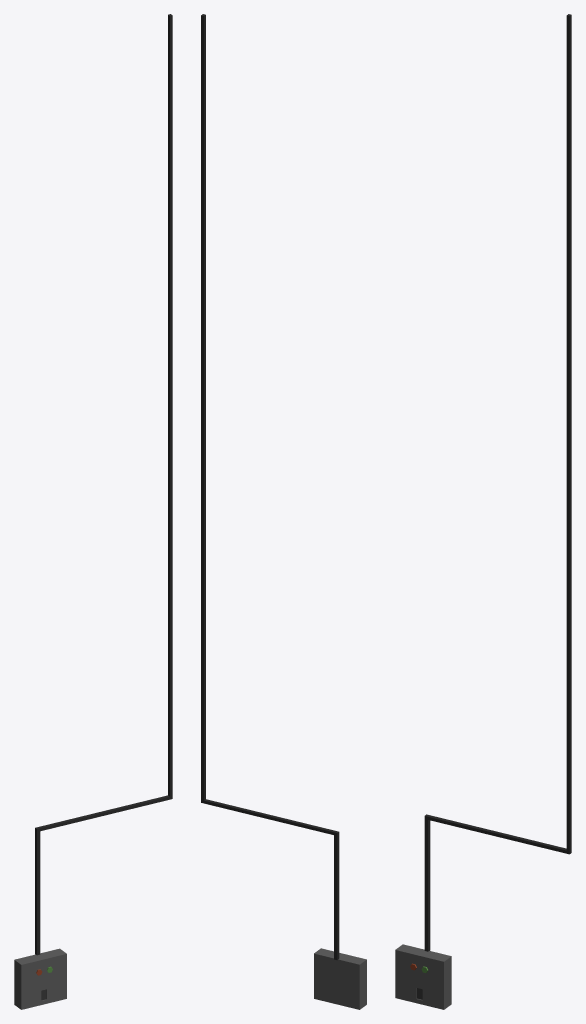
File: WallDecor_01.fbx
3 renders of one model, left to right at view 1: azimuth 30°, elevation 25°; view 2: azimuth 150°, elevation 25°; view 3: azimuth 330°, elevation 25°, orthographic. The views are drawn at different scales.
Visible parts, largest first — view 1: WallDecor_01; view 2: WallDecor_01; view 3: WallDecor_01.
Part boxes in pixels (box(x1,y1,x2,y2)): WallDecor_01: box(14, 14, 172, 1009); WallDecor_01: box(201, 14, 366, 1009); WallDecor_01: box(395, 14, 571, 1009).
Bounding box in the file's own units: 148 × 855 × 13.98.
